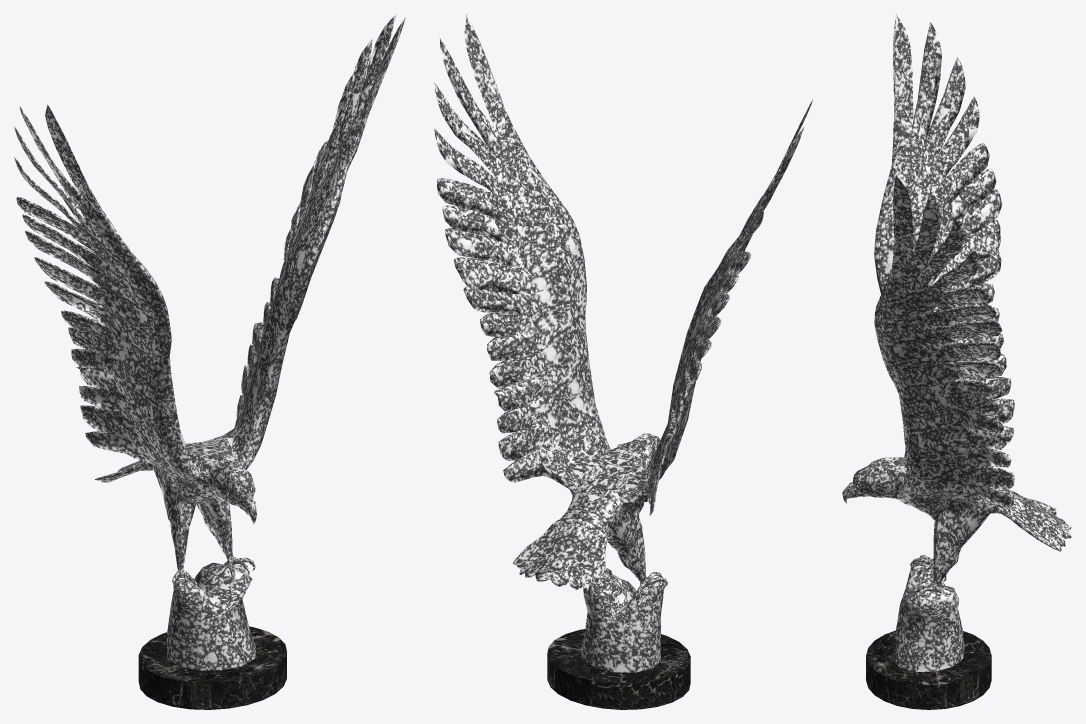
Rendered from aguila.fbx.
3 renders of one model, left to right at view 1: azimuth 30°, elevation 25°; view 2: azimuth 150°, elevation 25°; view 3: azimuth 270°, elevation 25°, orthographic. The views are drawn at different scales.
Parts seen in each view (by area): view 1: Component_12_1, Component_12_2, Group2, Group1; view 2: Component_12_2, Component_12_1, Group1, Group2; view 3: Component_12_2, Component_12_1, Group1, Group2.
Boxes of the visible parts, <box> form: Component_12_1: <box>14,104,255,589</box>; Component_12_2: <box>185,14,405,580</box>; Group2: <box>166,562,256,670</box>; Group1: <box>138,626,286,709</box>; Component_12_2: <box>434,14,647,581</box>; Component_12_1: <box>550,100,812,603</box>; Group1: <box>547,629,690,709</box>; Group2: <box>581,572,665,672</box>; Component_12_2: <box>842,175,1071,599</box>; Component_12_1: <box>847,14,1071,581</box>; Group1: <box>866,630,991,709</box>; Group2: <box>891,561,964,671</box>.
Size of the model in its own units: 56 by 90 by 32.
